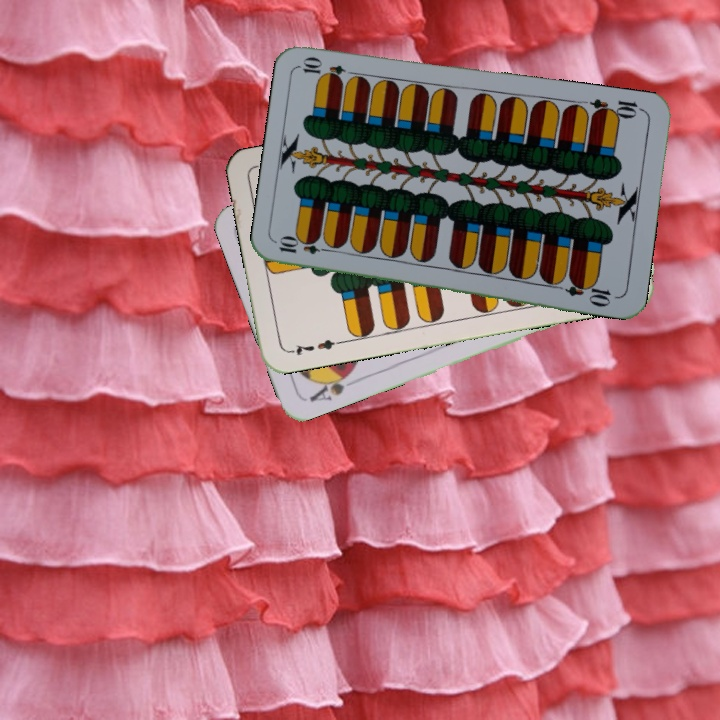E10: (587, 95, 646, 122), (275, 236, 334, 257)
E7: (284, 335, 343, 358)
SA: (305, 366, 361, 405)
